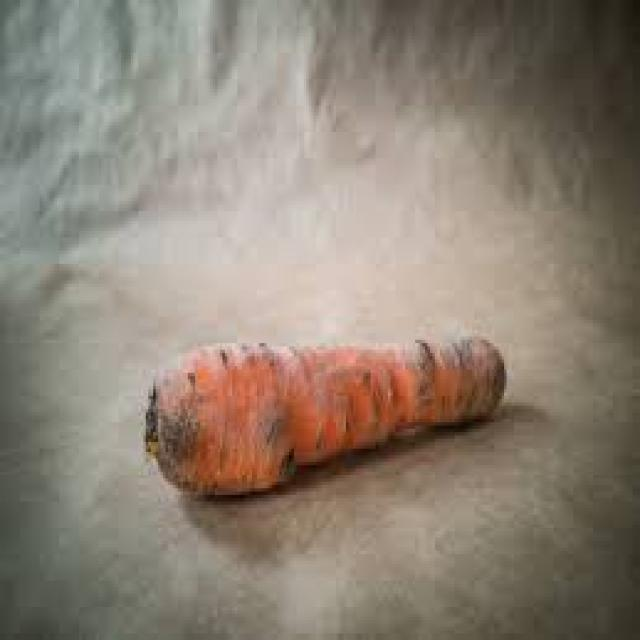Stale_Carrot: (139, 320, 516, 472)
